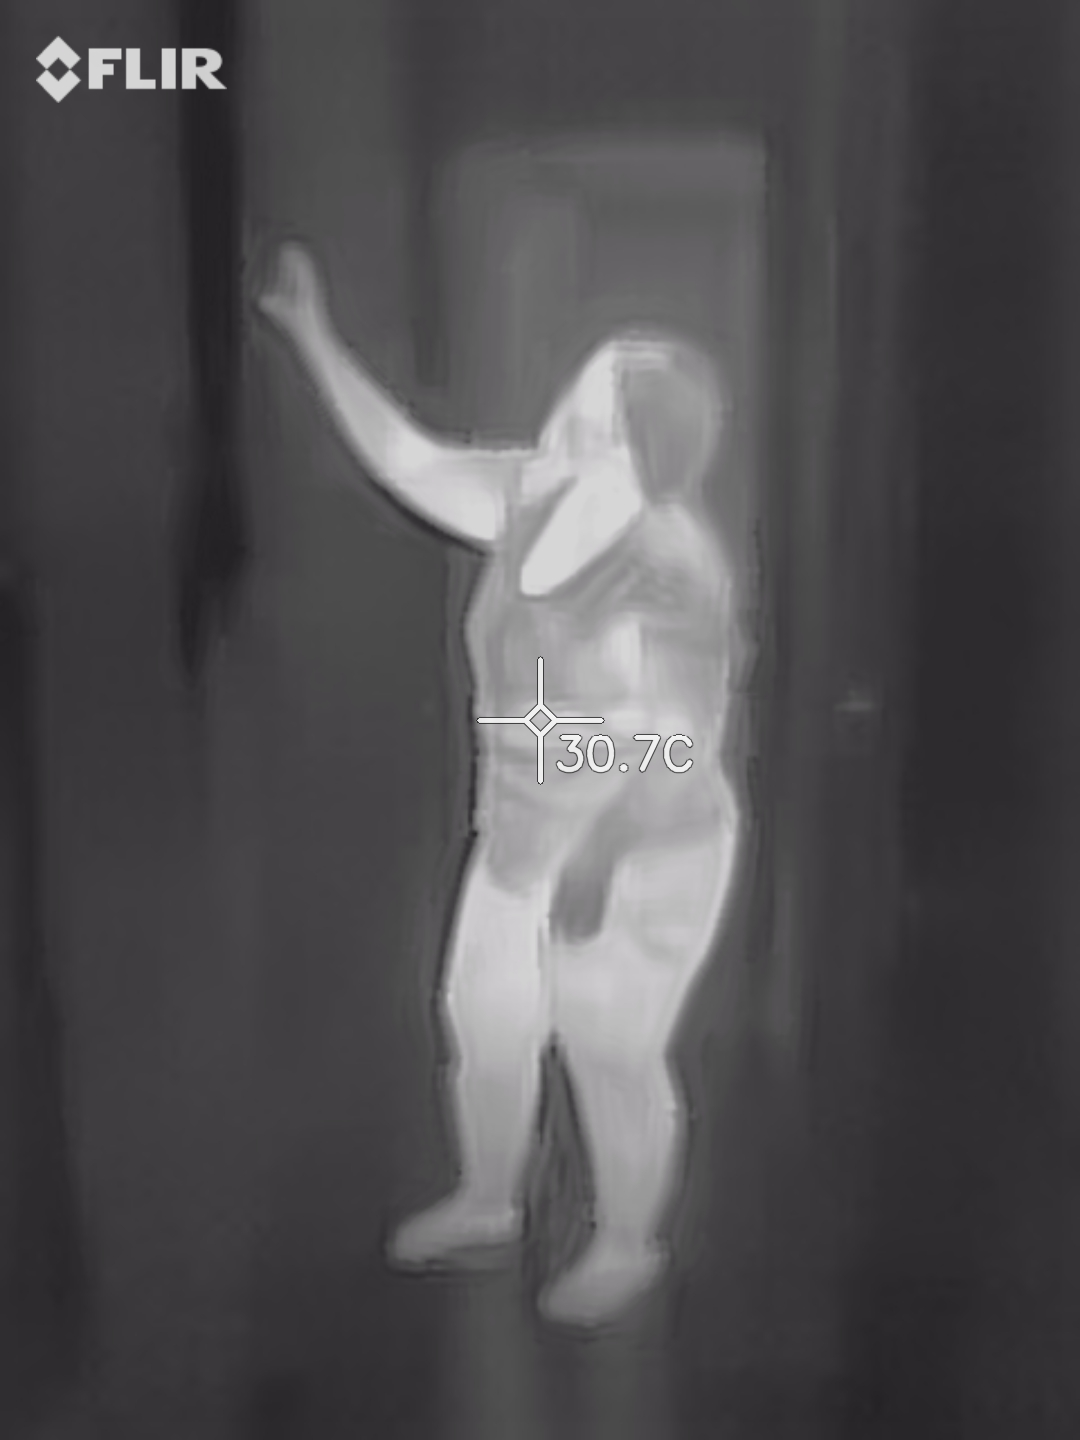head: (541, 327, 721, 497)
